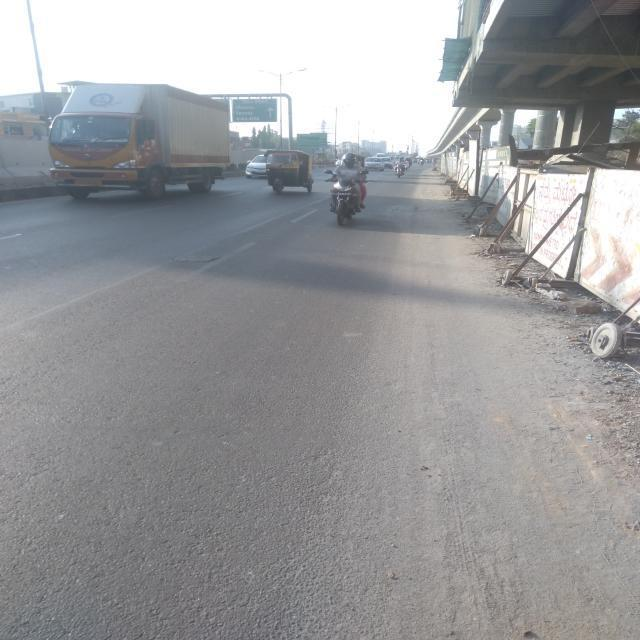auto_front: (262, 150, 316, 195)
truck_front: (33, 66, 234, 201)
two_wheeler_front: (324, 172, 369, 232)
